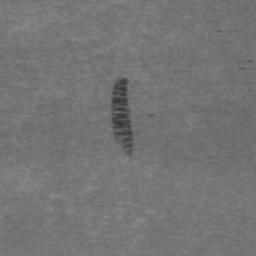Secondary rust skin: (111, 77, 135, 150)
